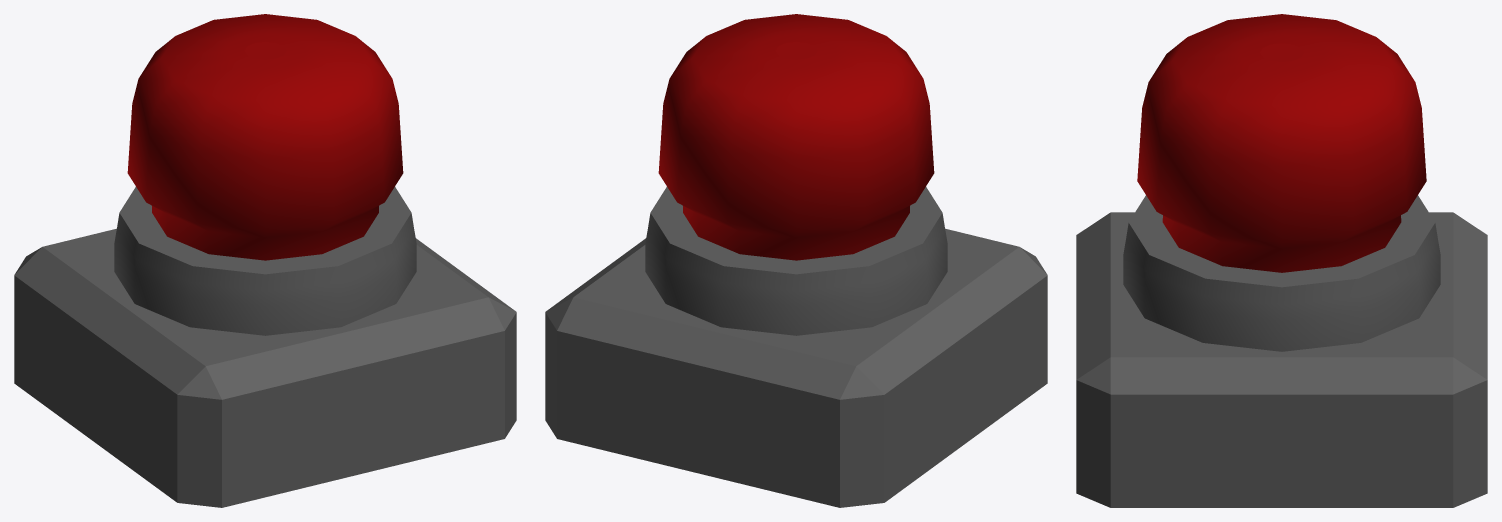
Rendered from button.fbx.
The picture shows the model from 3 angles, left to right: view 1: azimuth 30°, elevation 25°; view 2: azimuth 150°, elevation 25°; view 3: azimuth 270°, elevation 25°; orthographic projection. The views are drawn at different scales.
Visible parts, largest first — view 1: Box007, Cylinder005, Cylinder006; view 2: Box007, Cylinder005, Cylinder006; view 3: Box007, Cylinder005, Cylinder006.
Part boxes in pixels (box(x1,y1,x2,y2)): Box007: box(14, 228, 516, 507); Cylinder005: box(127, 14, 403, 260); Cylinder006: box(114, 187, 416, 335); Box007: box(545, 228, 1047, 507); Cylinder005: box(658, 14, 934, 260); Cylinder006: box(645, 187, 947, 335); Box007: box(1076, 212, 1487, 507); Cylinder005: box(1137, 14, 1426, 272); Cylinder006: box(1123, 195, 1440, 351).
Size of the model in its own units: 411 by 406 by 411.
